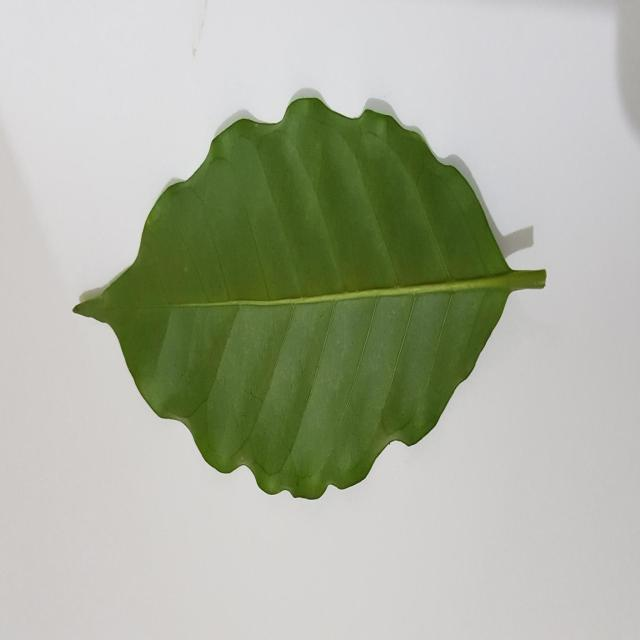nodisease: (73, 97, 546, 499)
